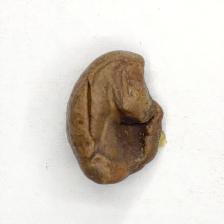NG: (84, 55, 160, 161)
